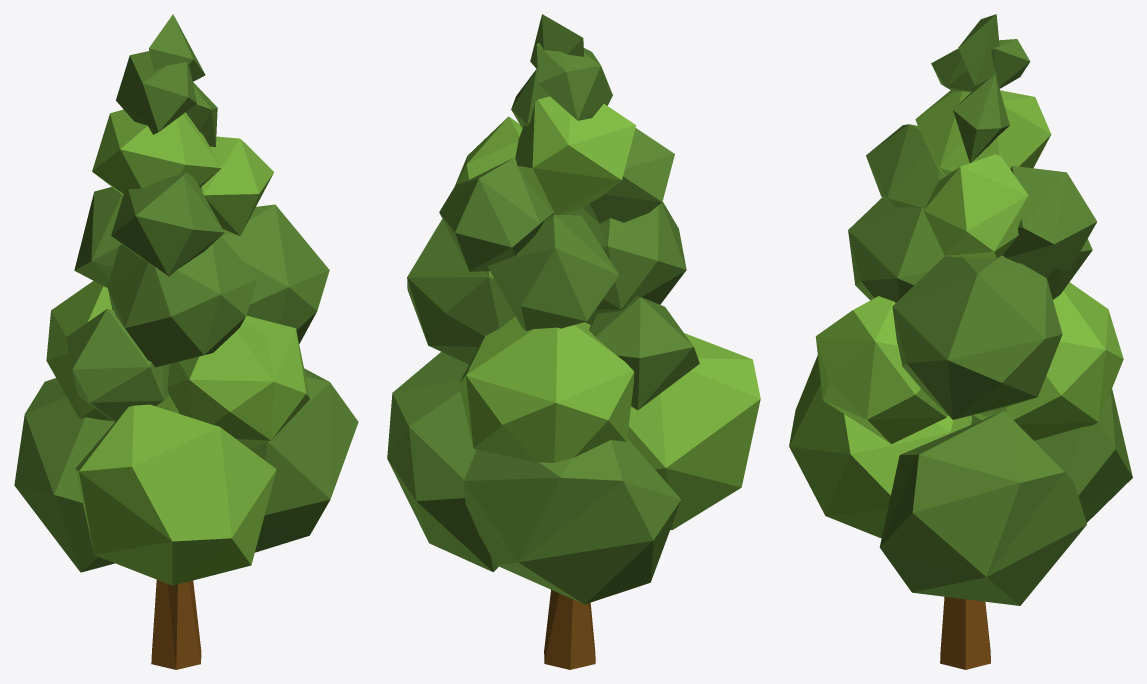
The model's file is [3D] Tree_01.fbx.
The picture shows the model from 3 angles, left to right: view 1: azimuth 30°, elevation 25°; view 2: azimuth 150°, elevation 25°; view 3: azimuth 270°, elevation 25°; orthographic projection. The views are drawn at different scales.
Parts seen in each view (by area): view 1: Tree1; view 2: Tree1; view 3: Tree1.
Part boxes in pixels (<box>): Tree1: <box>14,14,358,669</box>; Tree1: <box>387,14,760,669</box>; Tree1: <box>789,14,1132,669</box>.
Size of the model in its own units: 194 by 380 by 183.
